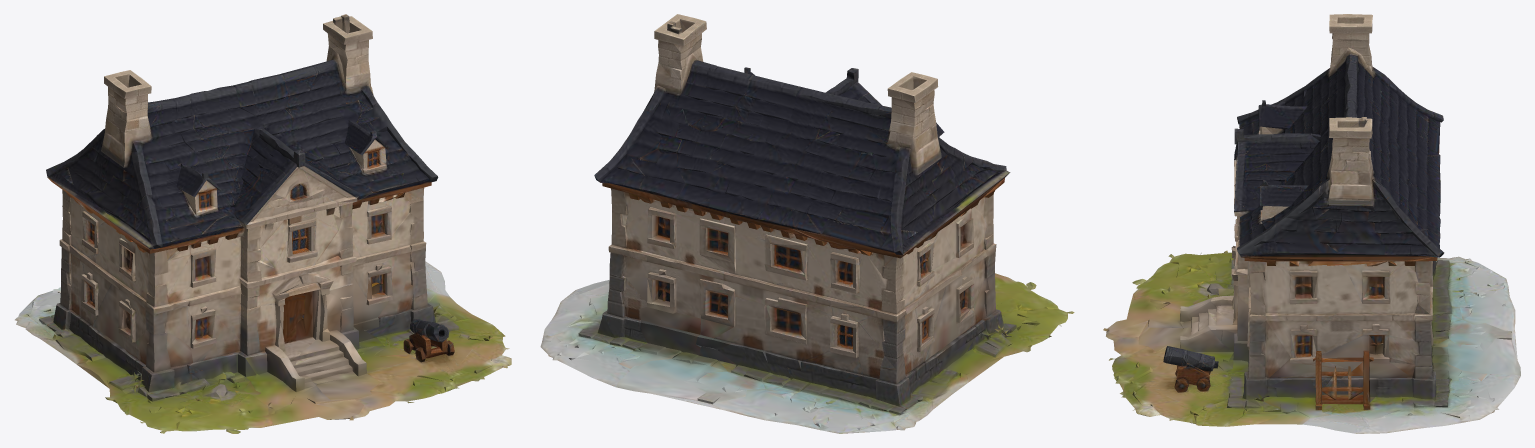
The model's file is academy.glb.
The picture shows the model from 3 angles, left to right: view 1: azimuth 30°, elevation 25°; view 2: azimuth 150°, elevation 25°; view 3: azimuth 270°, elevation 25°; orthographic projection. The views are drawn at different scales.
Bounding box in the file's own units: 1.9 × 1.31 × 1.84.
Materials: 1 (1 with a texture image).
